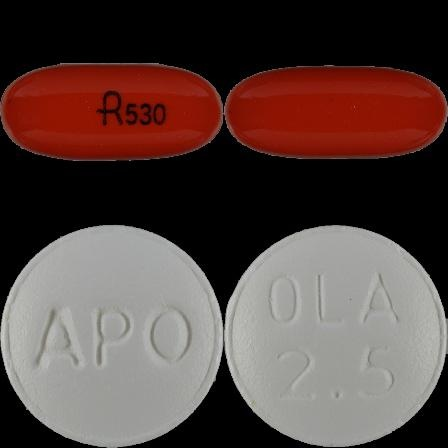50268-601: (0, 0, 224, 224)
